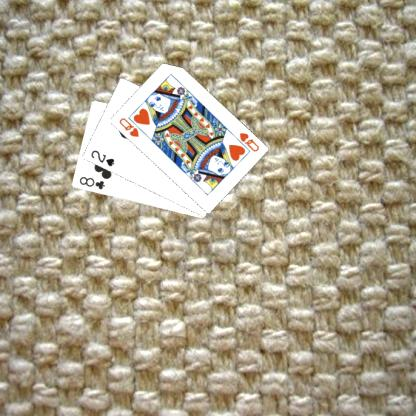2S: (88, 147, 116, 168)
8C: (77, 174, 106, 191)
QH: (230, 130, 260, 153), (117, 115, 140, 138)
